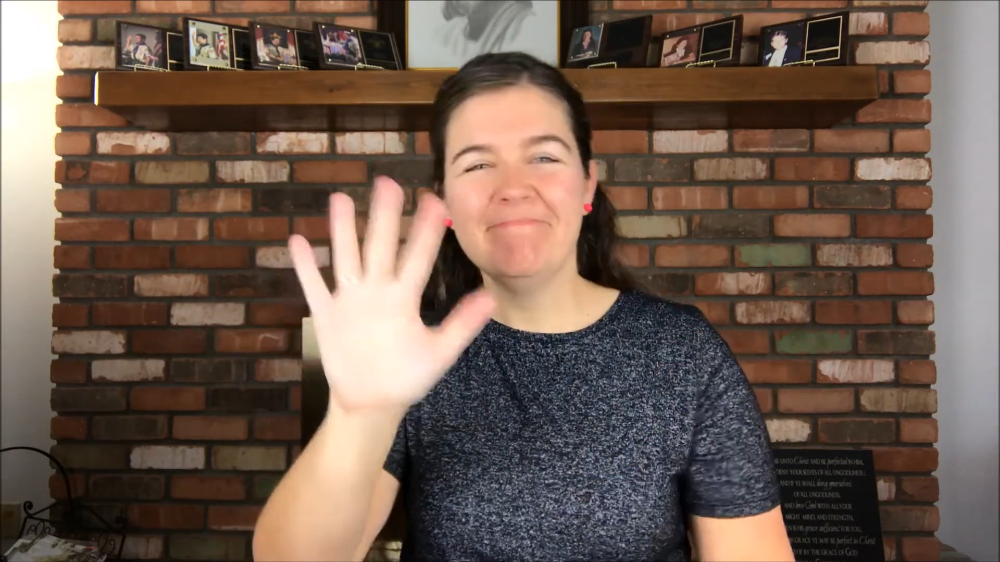hello: (286, 175, 497, 408)
